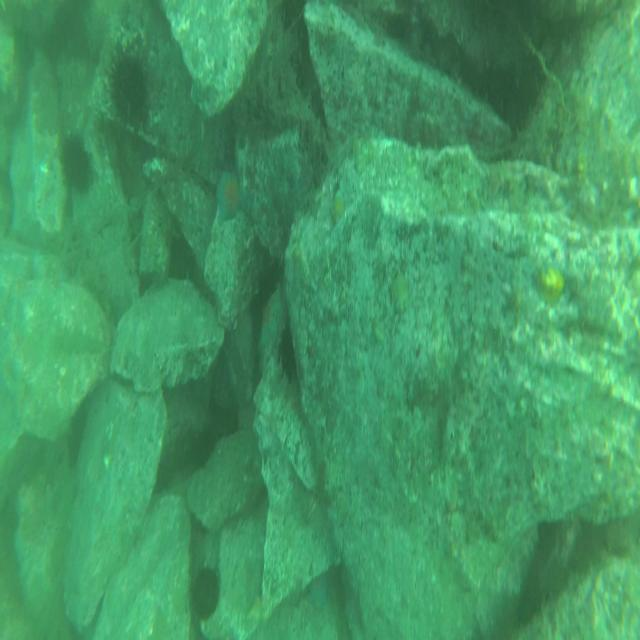echinus: (97, 44, 159, 137), (52, 128, 100, 206), (188, 558, 222, 624)
starfish: (257, 281, 283, 362), (212, 171, 246, 228), (326, 188, 348, 228)
